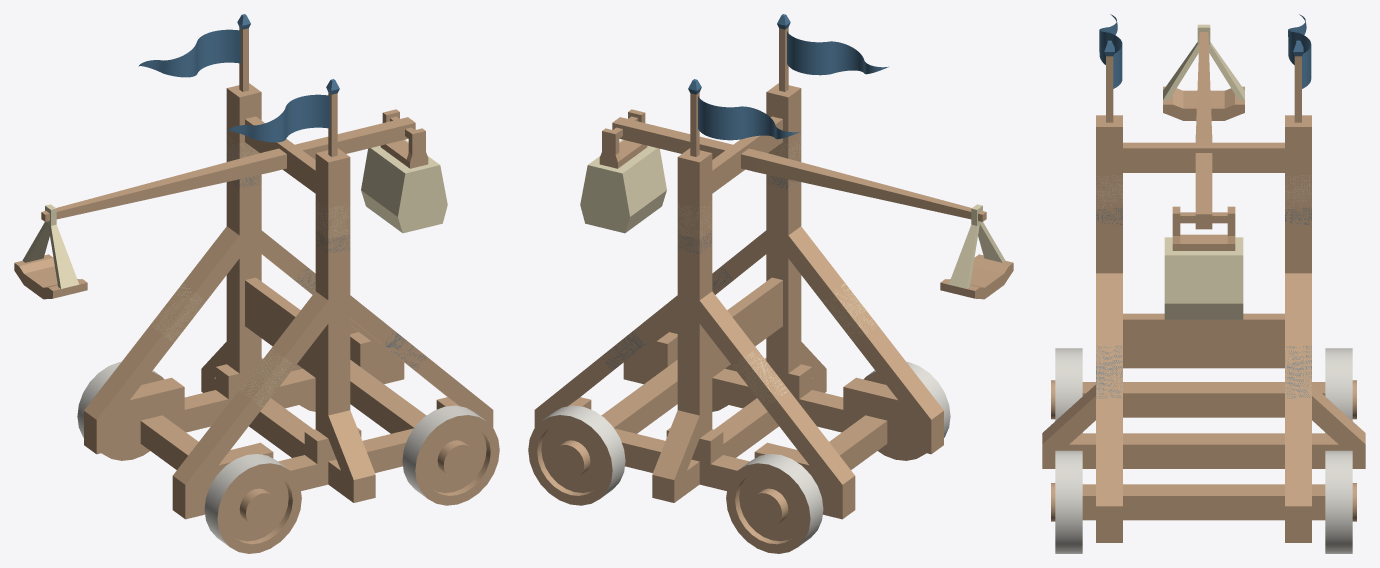
File: siegeTrebuchet.glb
The picture shows the model from 3 angles, left to right: view 1: azimuth 30°, elevation 25°; view 2: azimuth 150°, elevation 25°; view 3: azimuth 270°, elevation 25°; orthographic projection. The views are drawn at different scales.
Visible parts, largest first — view 1: mesh_id4, mesh_id13, mesh_id22, mesh_id18, mesh_id15, mesh_id11, mesh_id9, mesh_id7, mesh_id8, mesh_id23, mesh_id19, mesh_id5 (+3 smaller); view 2: mesh_id4, mesh_id13, mesh_id20, mesh_id16, mesh_id15, mesh_id9, mesh_id11, mesh_id7, mesh_id8, mesh_id21, mesh_id17, mesh_id5 (+4 smaller); view 3: mesh_id4, mesh_id15, mesh_id21, mesh_id23, mesh_id13, mesh_id14, mesh_id8, mesh_id17, mesh_id19, mesh_id7, mesh_id6, mesh_id11 (+4 smaller).
Boxes of the visible parts, x1,y1,x2,y2 form: mesh_id4: (84,83,493,519); mesh_id13: (41,117,415,221); mesh_id22: (415,415,499,505); mesh_id18: (217,463,301,553); mesh_id15: (361,139,447,233); mesh_id11: (227,79,339,142); mesh_id9: (138,14,250,77); mesh_id7: (22,204,79,288); mesh_id8: (14,254,87,299); mesh_id23: (402,405,485,497); mesh_id19: (204,454,288,546); mesh_id5: (152,137,348,407); mesh_id4: (534,83,943,519); mesh_id13: (612,117,986,221); mesh_id20: (528,415,612,505); mesh_id16: (726,463,810,553); mesh_id15: (580,139,666,233); mesh_id9: (688,79,800,140); mesh_id11: (777,14,888,75); mesh_id7: (948,204,1005,288); mesh_id8: (940,254,1013,299); mesh_id21: (542,405,625,497); mesh_id17: (739,454,823,546); mesh_id5: (677,136,873,407); mesh_id4: (1042,115,1365,542); mesh_id15: (1164,237,1243,319); mesh_id21: (1325,450,1352,553); mesh_id23: (1055,450,1082,553); mesh_id13: (1195,32,1212,229); mesh_id14: (1172,206,1235,250); mesh_id8: (1163,86,1244,120); mesh_id17: (1325,348,1352,433); mesh_id19: (1055,348,1082,433); mesh_id7: (1163,24,1244,100); mesh_id6: (1096,208,1311,398); mesh_id11: (1099,14,1122,88).
Bounding box in the file's own units: 0.5097 × 0.512 × 0.3288.
20 materials, 20 textured.
